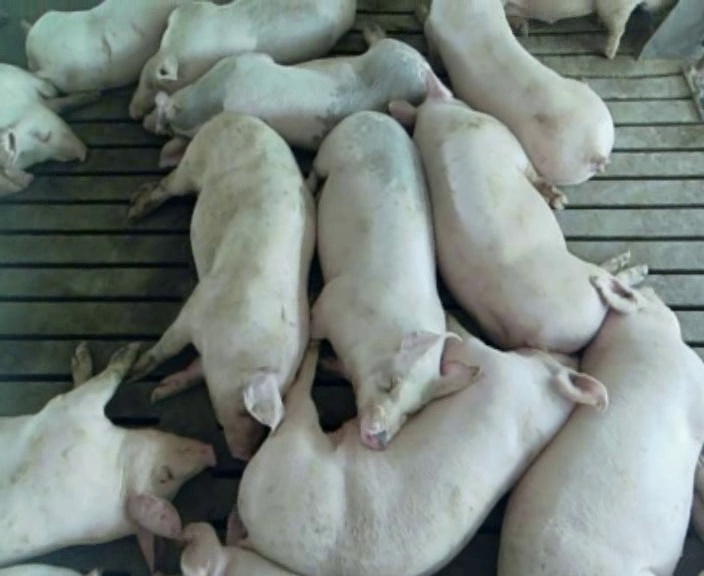pig: (238, 320, 605, 572), (388, 74, 647, 352), (129, 113, 314, 459), (499, 273, 703, 574), (312, 111, 476, 448), (0, 342, 214, 572), (144, 33, 430, 166), (425, 2, 613, 184), (129, 2, 354, 118), (26, 2, 177, 92), (0, 63, 99, 196), (181, 511, 292, 575)
